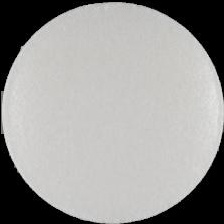42291-293: (0, 0, 224, 224)
